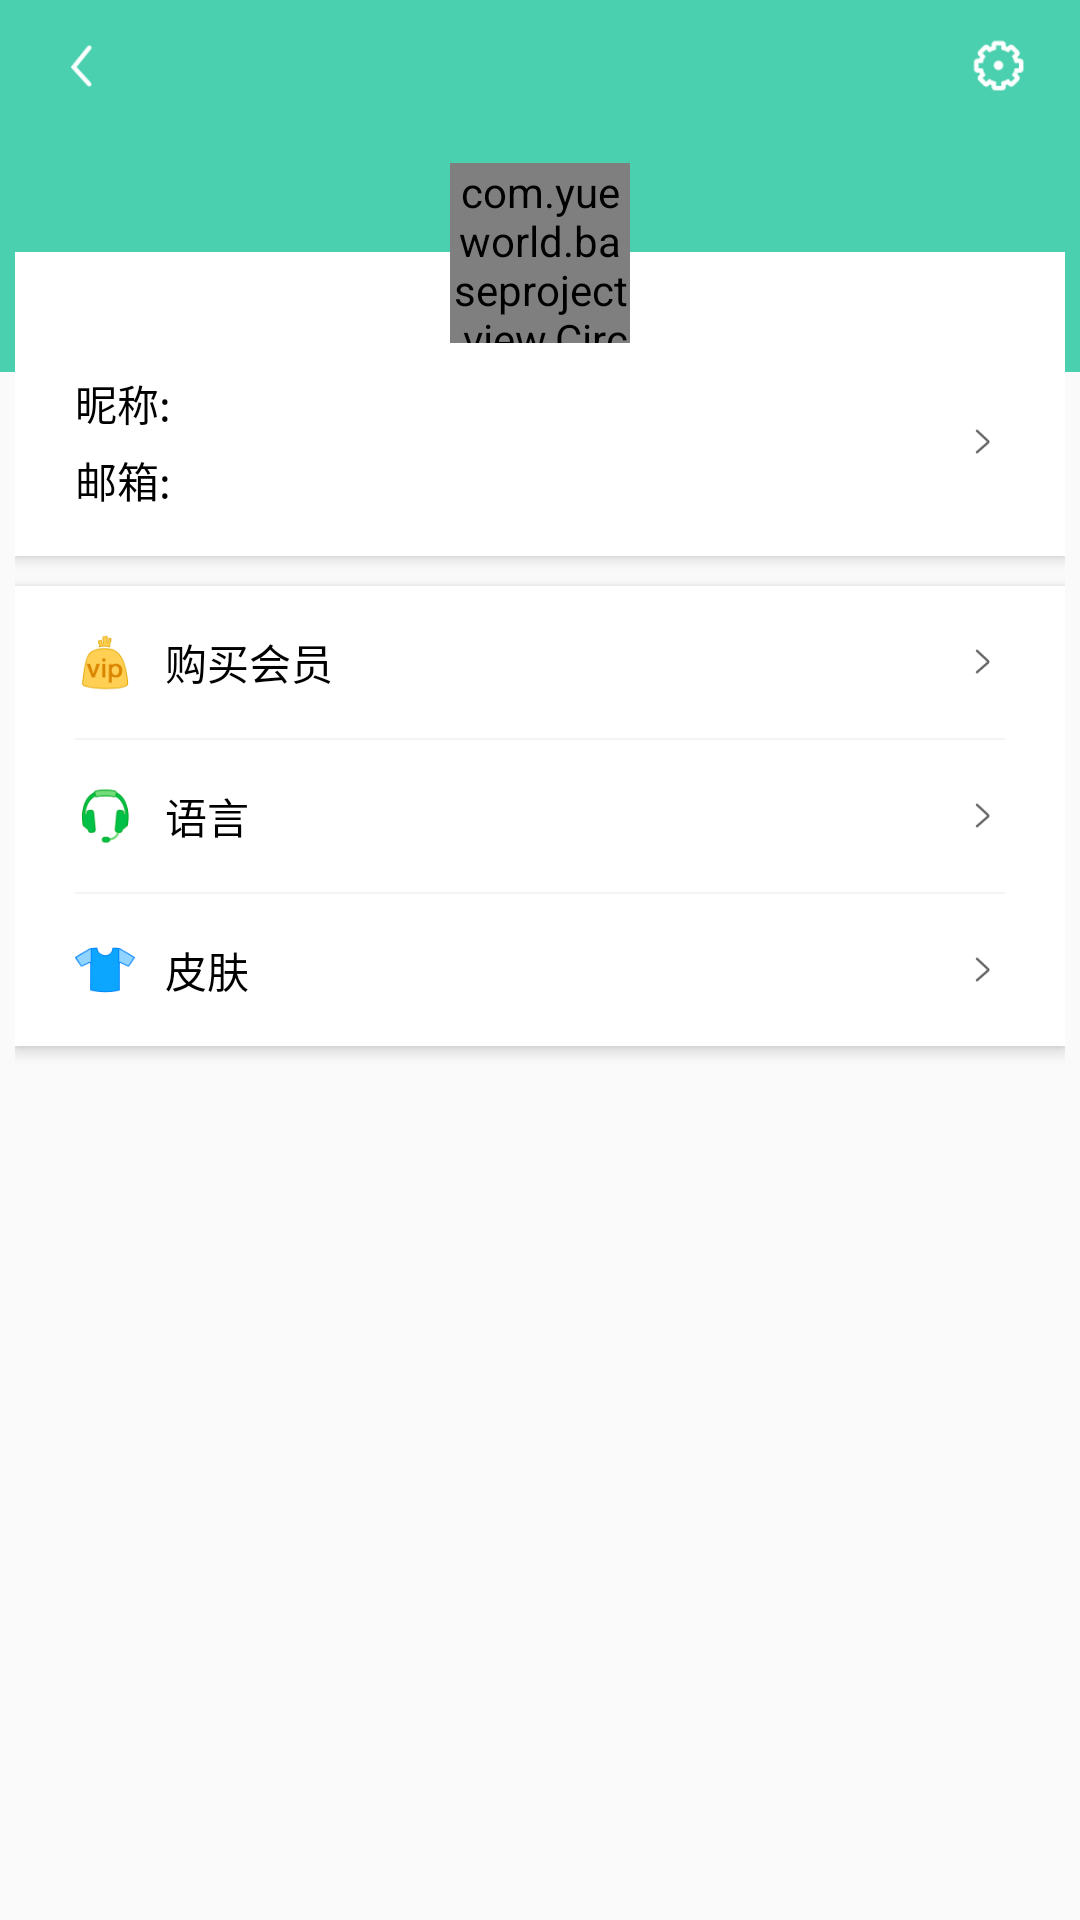

Where icons sit on this 1080*1920 app screen, as (x1,y1,x2,y2):
back: (71,45,92,87)
setting: (973,40,1024,91)
toright: (976,429,990,454), (976,649,990,674), (976,803,990,828), (976,957,990,982)
